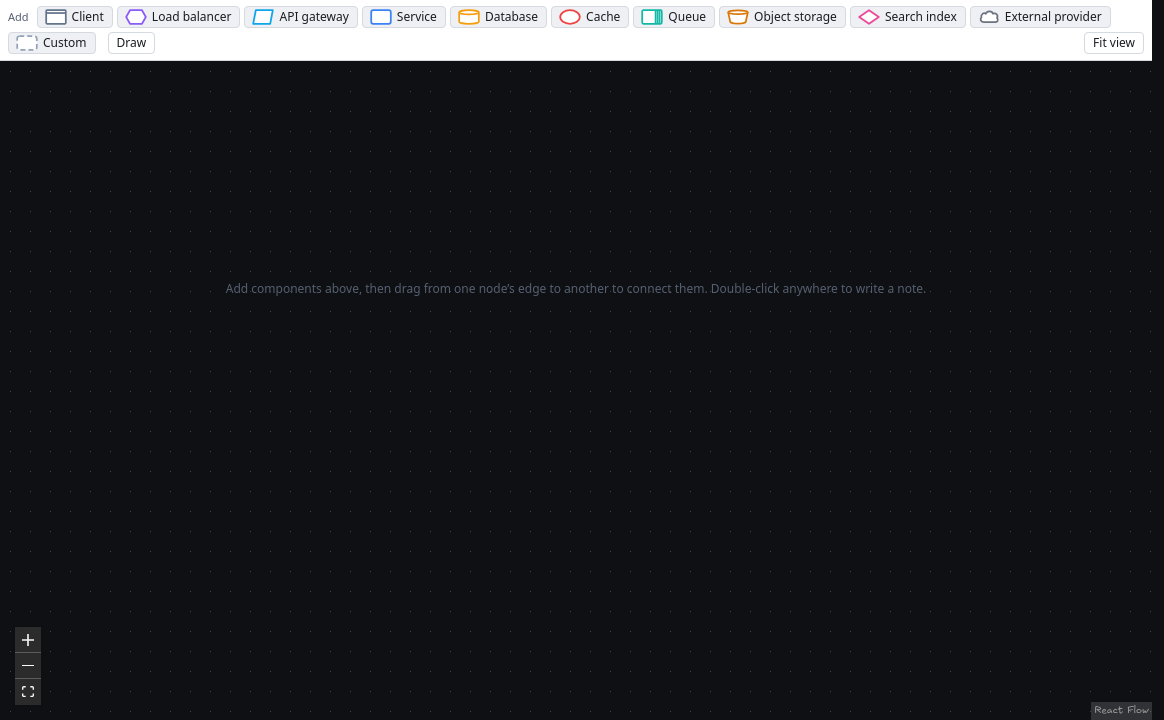
Test: canvas notes › edits an existing note on double-click and cancels with Escape
Double-click the element with class "react-flow__pane" at (576, 390), box left=0, top=61, right=1152, bottom=719
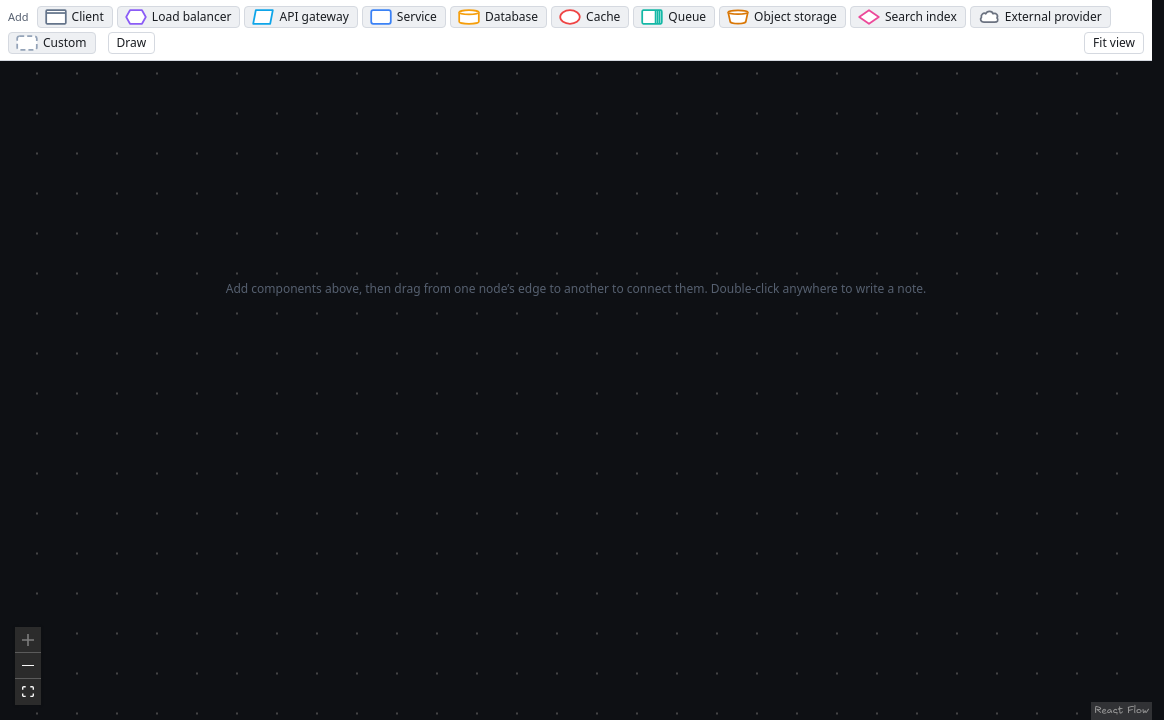
Type "first" into the text box named "Drawing text" at (576, 390), box left=376, top=330, right=776, bottom=450
Then press Tab
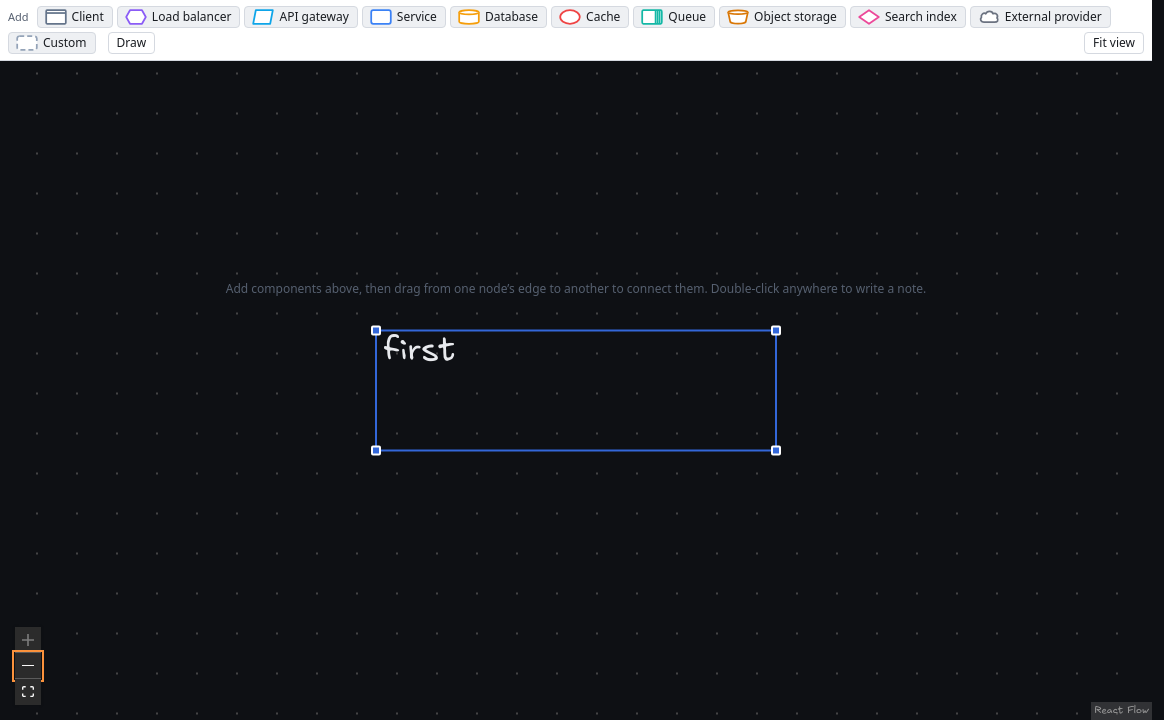
Double-click the element showing "first" at (576, 390), box left=376, top=330, right=776, bottom=450
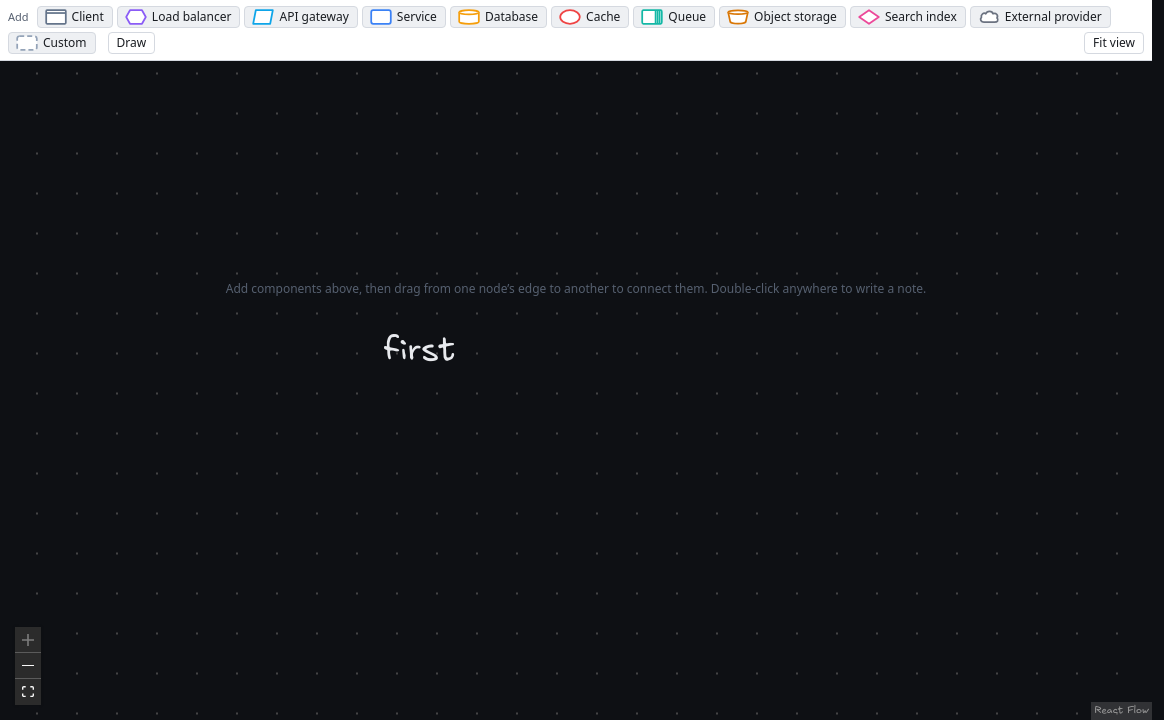
Type " edited" into the text box named "Drawing text" at (576, 390), box left=376, top=330, right=776, bottom=450
Then press Escape
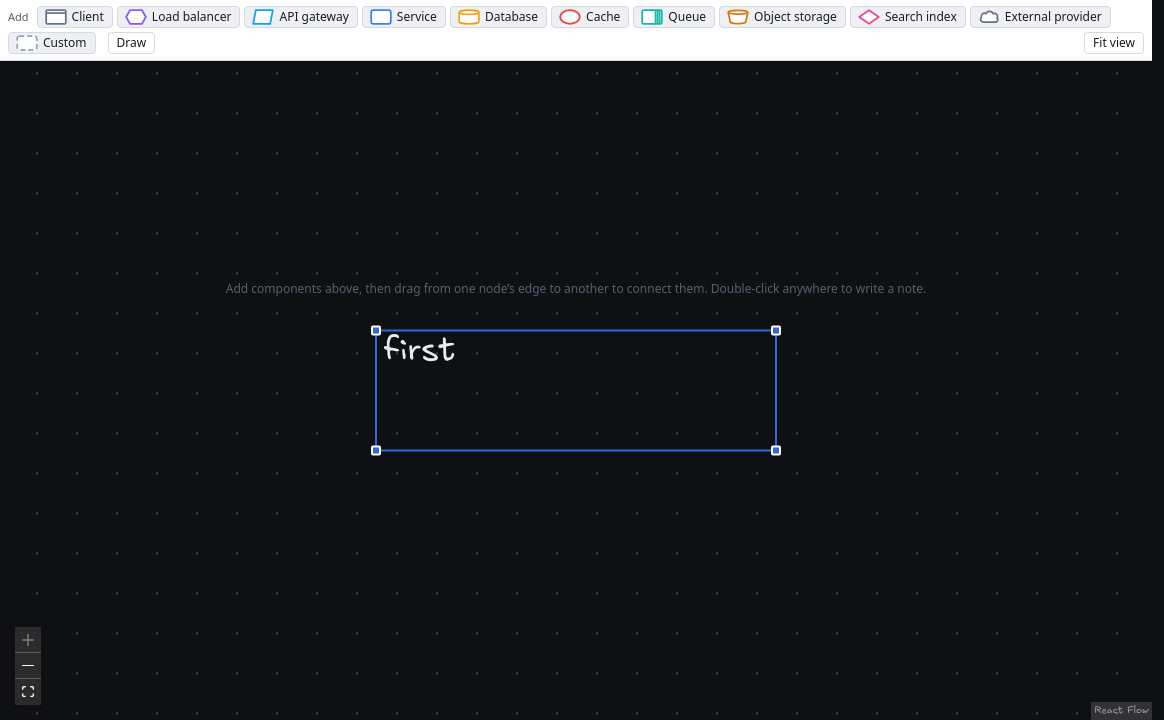
Check: the text "first" is shown, box left=384, top=330, right=456, bottom=370
Double-click the element showing "first" at (576, 390), box left=376, top=330, right=776, bottom=450
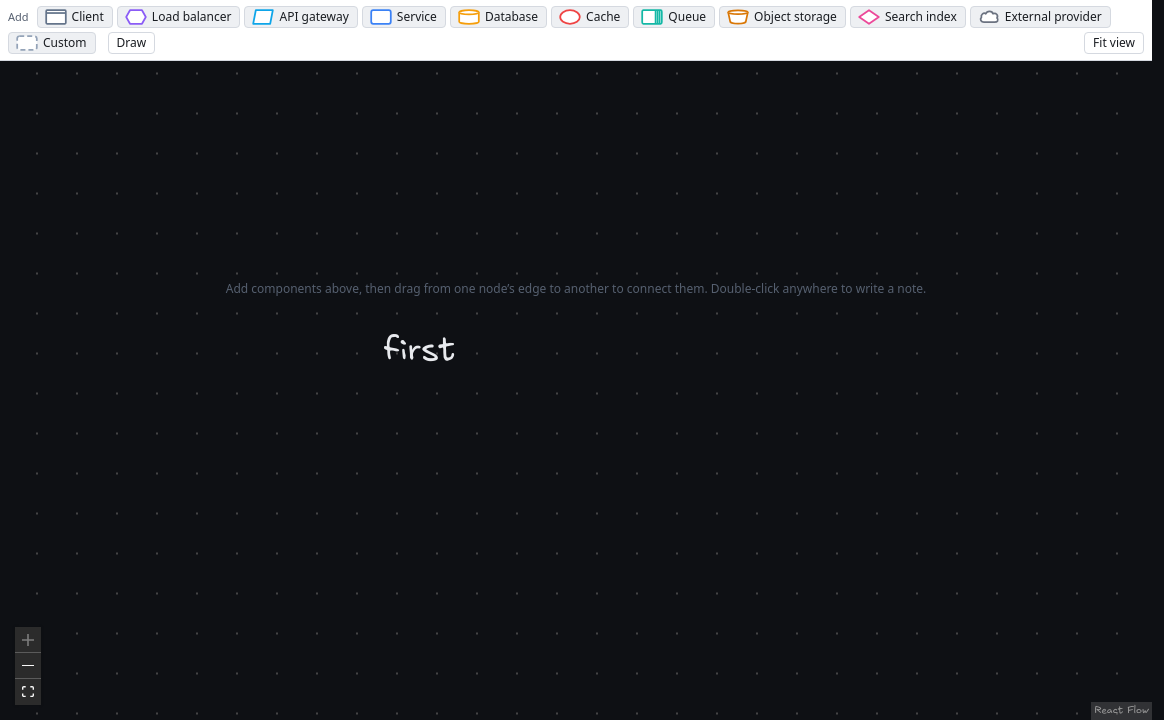
Type " v2" into the text box named "Drawing text" at (576, 390), box left=376, top=330, right=776, bottom=450
Then press Tab
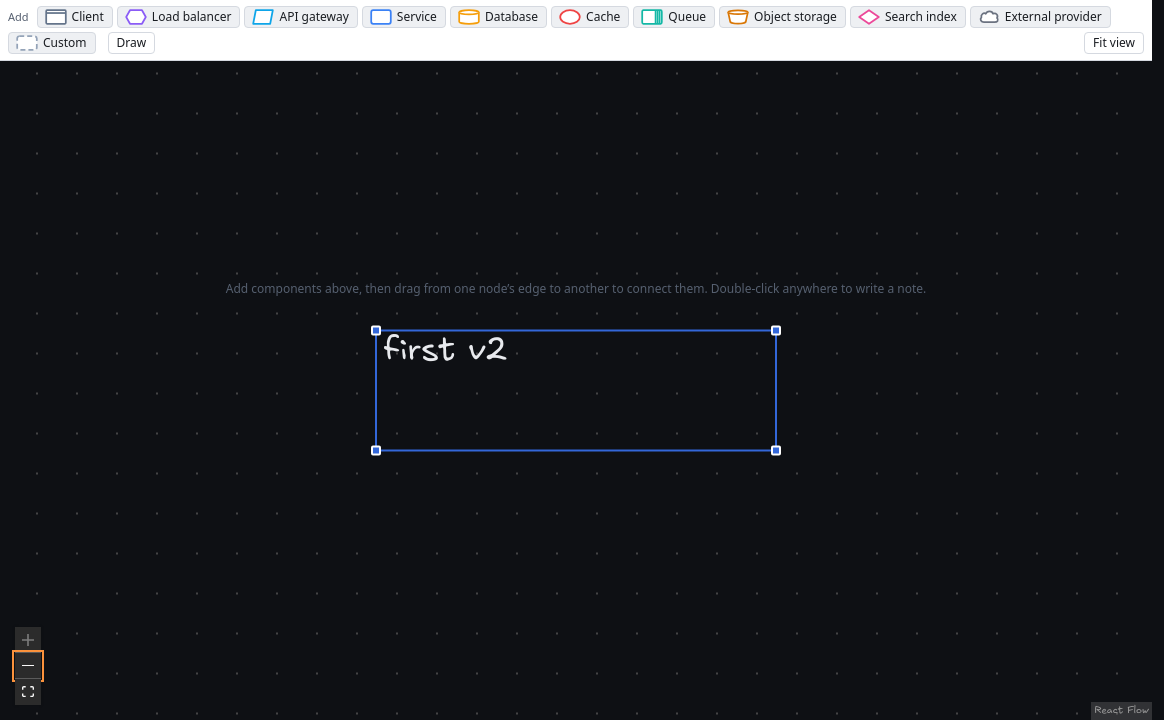
Check: the text "first v2" is shown, box left=384, top=330, right=508, bottom=370
